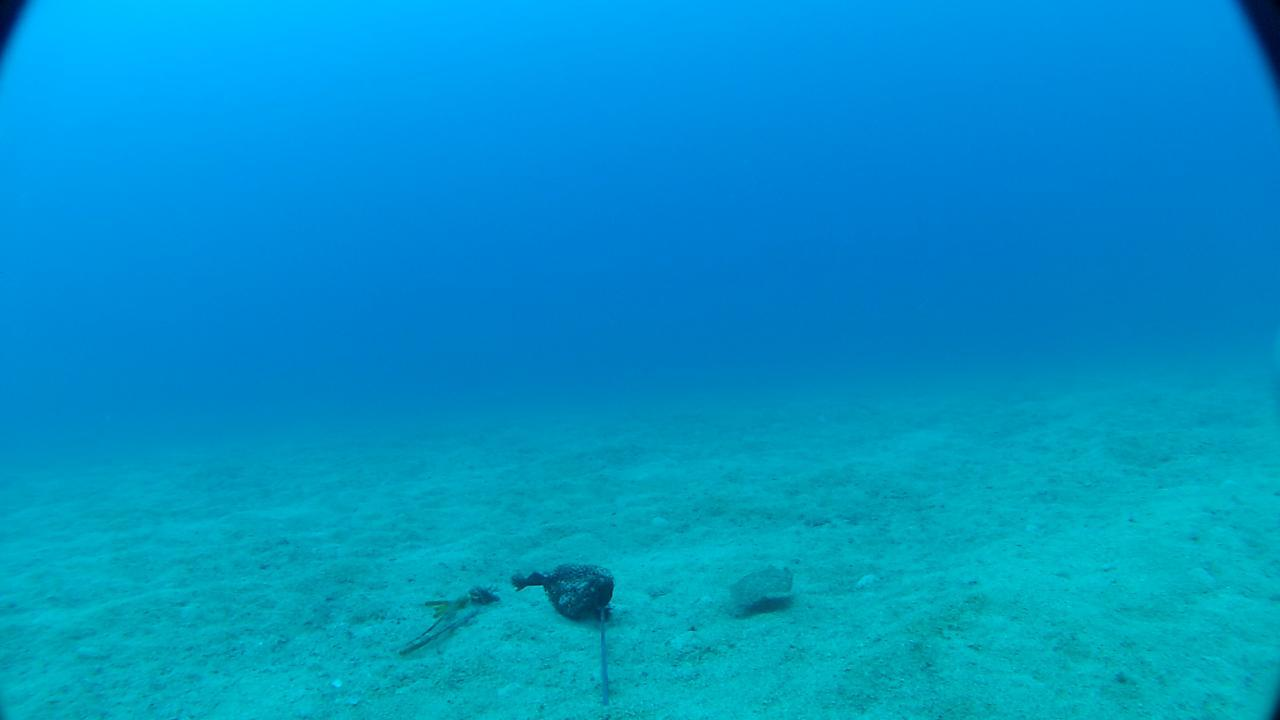bothus: (724, 559, 794, 610)
